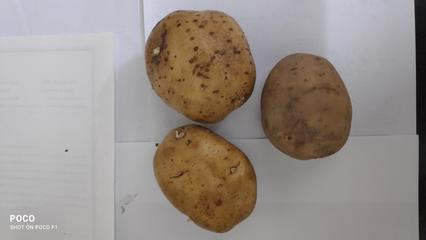potato: (140, 9, 248, 117), (157, 122, 257, 227), (267, 50, 350, 160)
